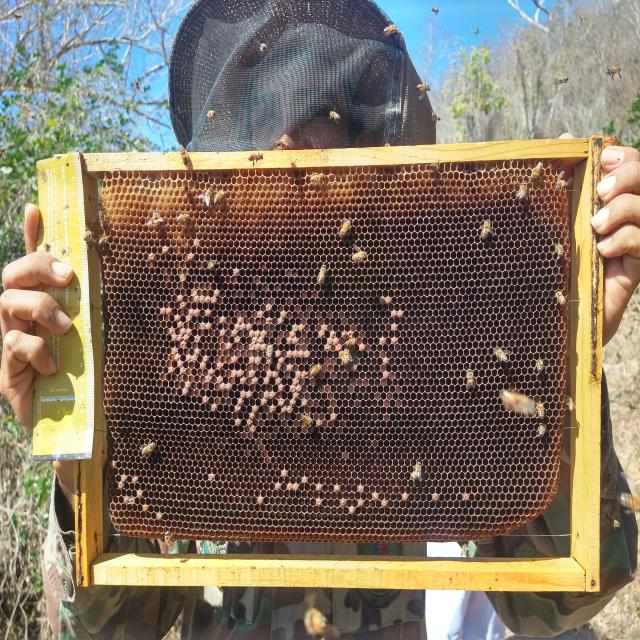cria: (142, 240, 406, 433), (123, 495, 135, 505), (131, 475, 138, 485), (275, 482, 282, 491), (257, 495, 263, 505), (316, 483, 322, 493), (156, 512, 162, 521), (208, 472, 214, 481), (281, 469, 287, 478), (301, 476, 307, 485), (340, 499, 346, 508), (137, 489, 143, 497), (143, 505, 148, 514)
marco: (85, 166, 586, 559)
